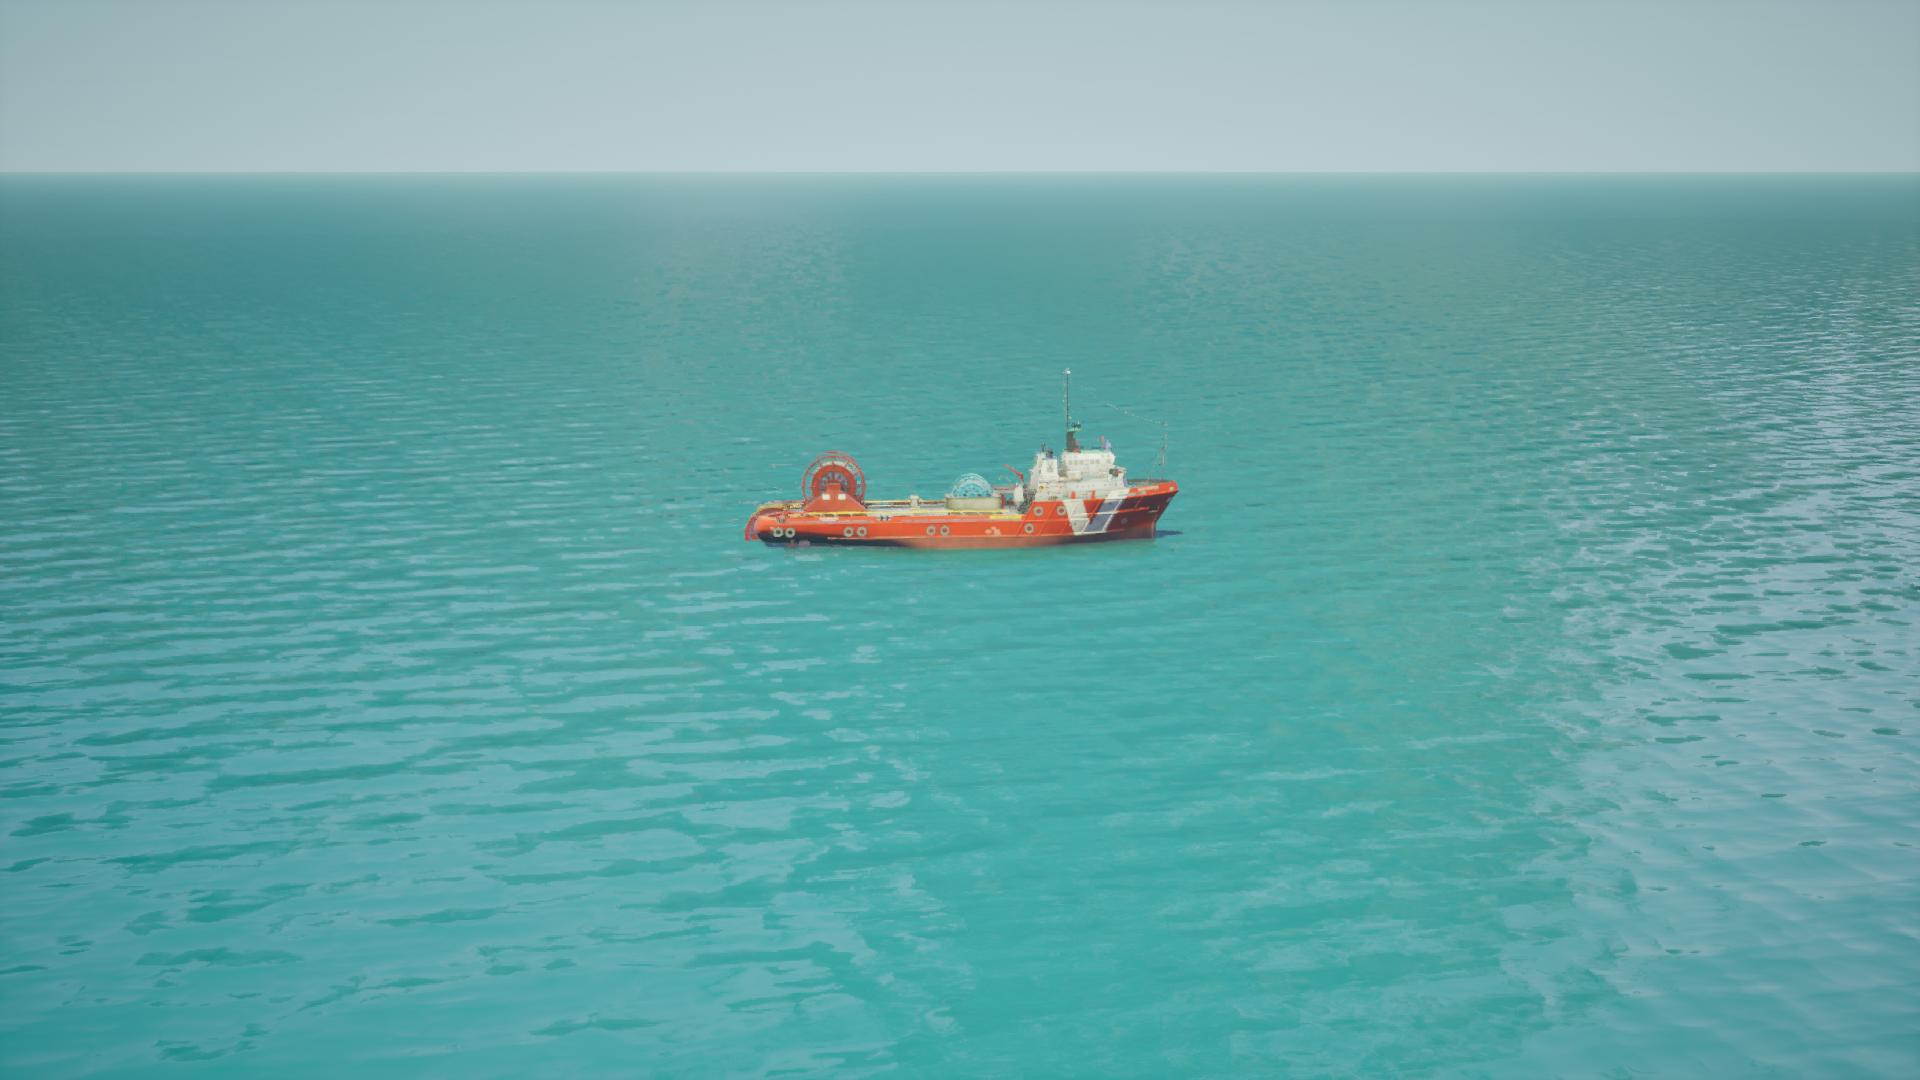Tug Boat: (742, 435, 1180, 559)
